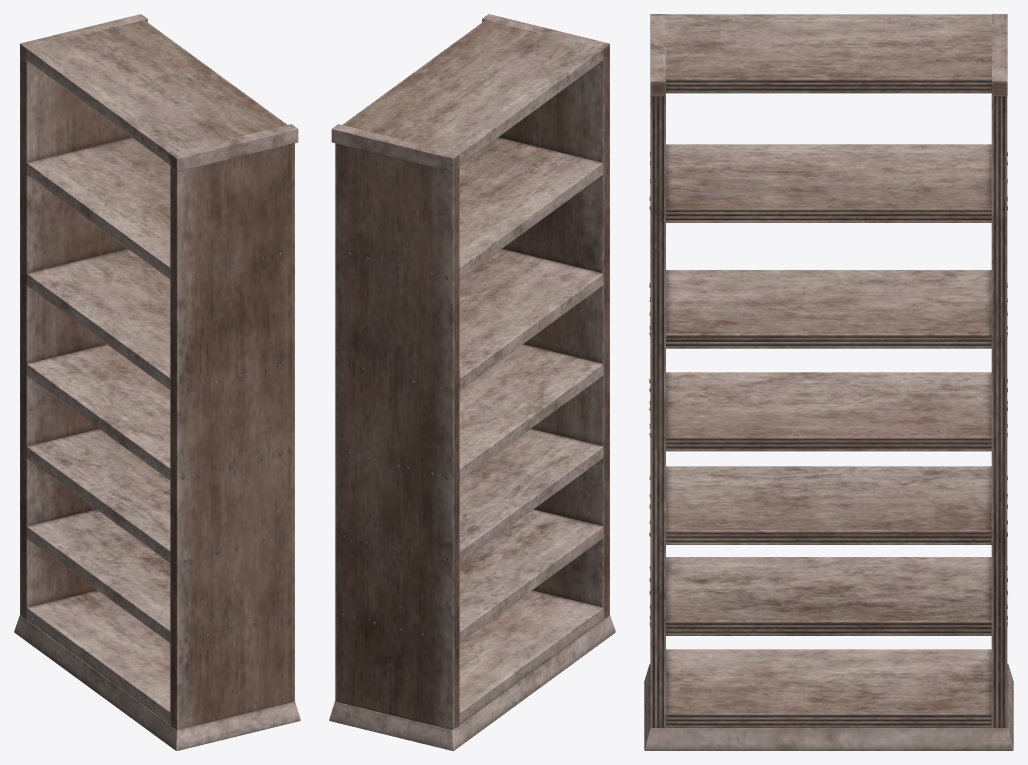
File: boekenkast.glb
3 views of the same model, side by side, from view 1: azimuth 30°, elevation 25°; view 2: azimuth 150°, elevation 25°; view 3: azimuth 270°, elevation 25° (orthographic). The views are drawn at different scales.
Bounding box in the file's own units: 0.4 × 1.8 × 0.9.
1 material, 1 textured.
